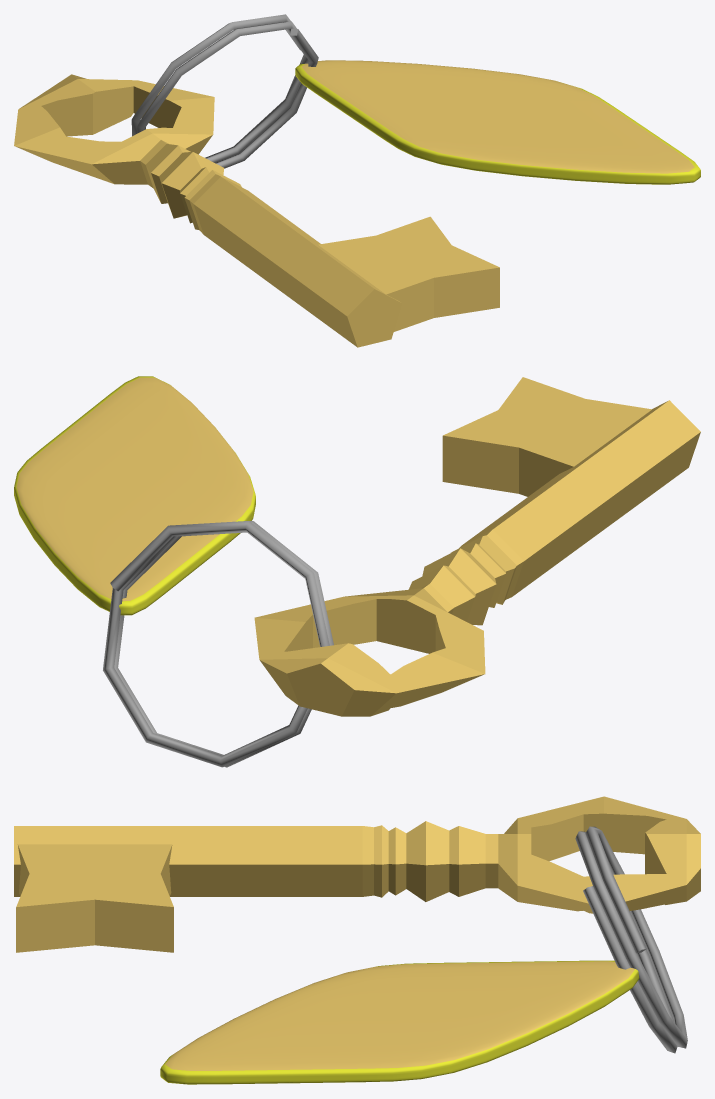
The model's file is KEYWIP.fbx.
3 renders of one model, top to bottom at view 1: azimuth 30°, elevation 25°; view 2: azimuth 150°, elevation 25°; view 3: azimuth 270°, elevation 25°, orthographic. The views are drawn at different scales.
Visible parts, largest first — view 1: Cylinder, Cube.001, Cube, Spiral; view 2: Cylinder, Cube.001, Cube, Spiral; view 3: Cylinder, Cube.001, Cube, Spiral.
Boxes of the visible parts, box(x1,y1,x2,y2) form: Cylinder: box(14, 74, 401, 347); Cube.001: box(295, 60, 700, 184); Cube: box(318, 216, 499, 331); Spiral: box(131, 14, 318, 168); Cylinder: box(254, 400, 700, 716); Cube.001: box(14, 376, 255, 615); Cube: box(442, 377, 651, 496); Spiral: box(103, 521, 333, 767); Cylinder: box(14, 796, 700, 913); Cube.001: box(160, 960, 639, 1084); Cube: box(16, 844, 173, 952); Spiral: box(575, 826, 687, 1053).
Size of the model in its own units: 328 by 116 by 346.
